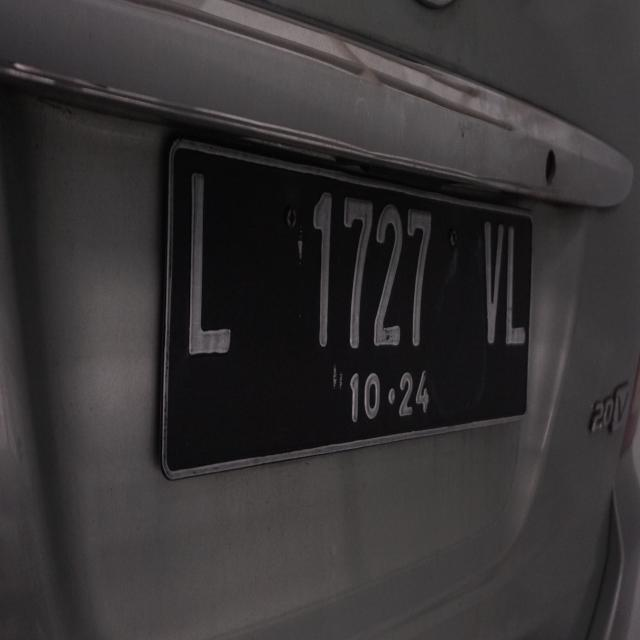1: (298, 175, 336, 358)
2: (370, 176, 407, 357)
7: (337, 180, 374, 354), (404, 184, 436, 362)
L: (175, 161, 238, 379), (502, 198, 530, 360)
V: (472, 196, 502, 353)
